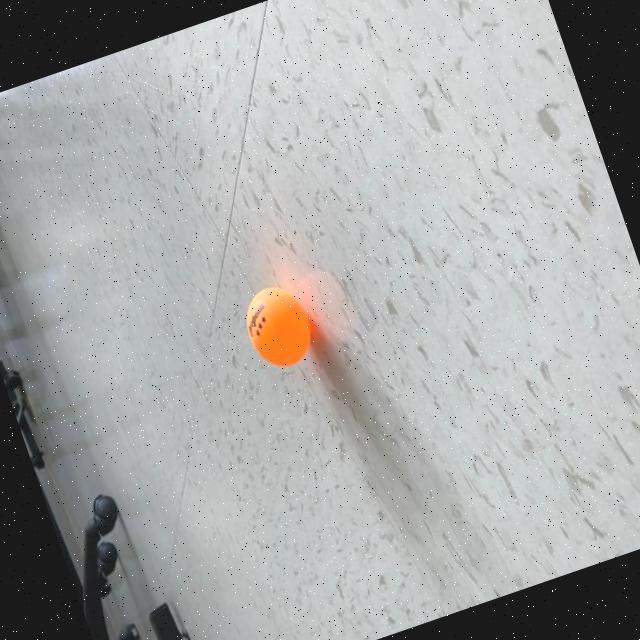ping-pong-ball: (230, 274, 322, 380)
